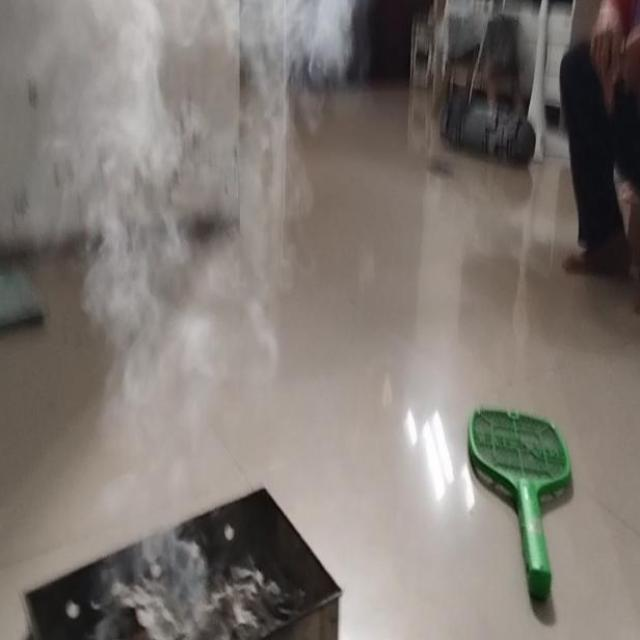fire: (77, 0, 300, 607)
